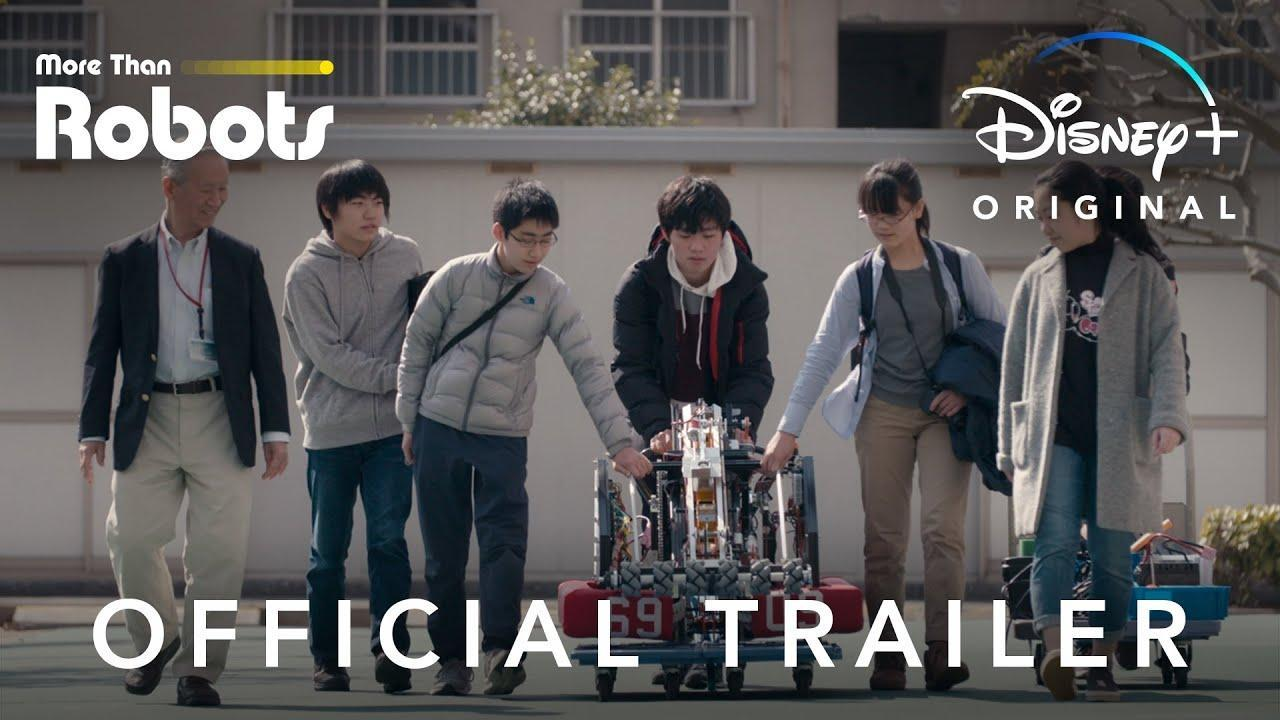robot: (556, 388, 862, 649)
